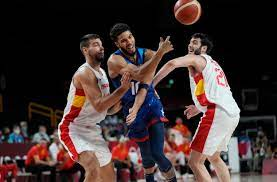basketball: (172, 1, 202, 26)
spain_player: (184, 30, 244, 182), (64, 30, 113, 182)
usa_player: (110, 21, 179, 182)
